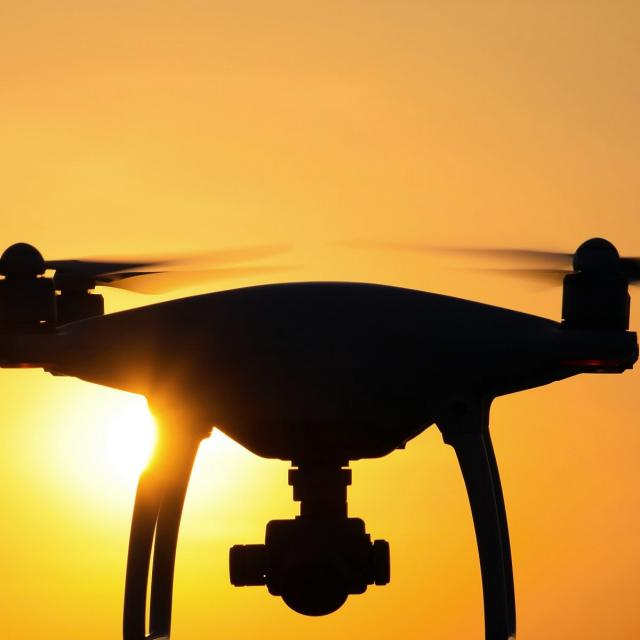drone: (0, 208, 640, 511)
